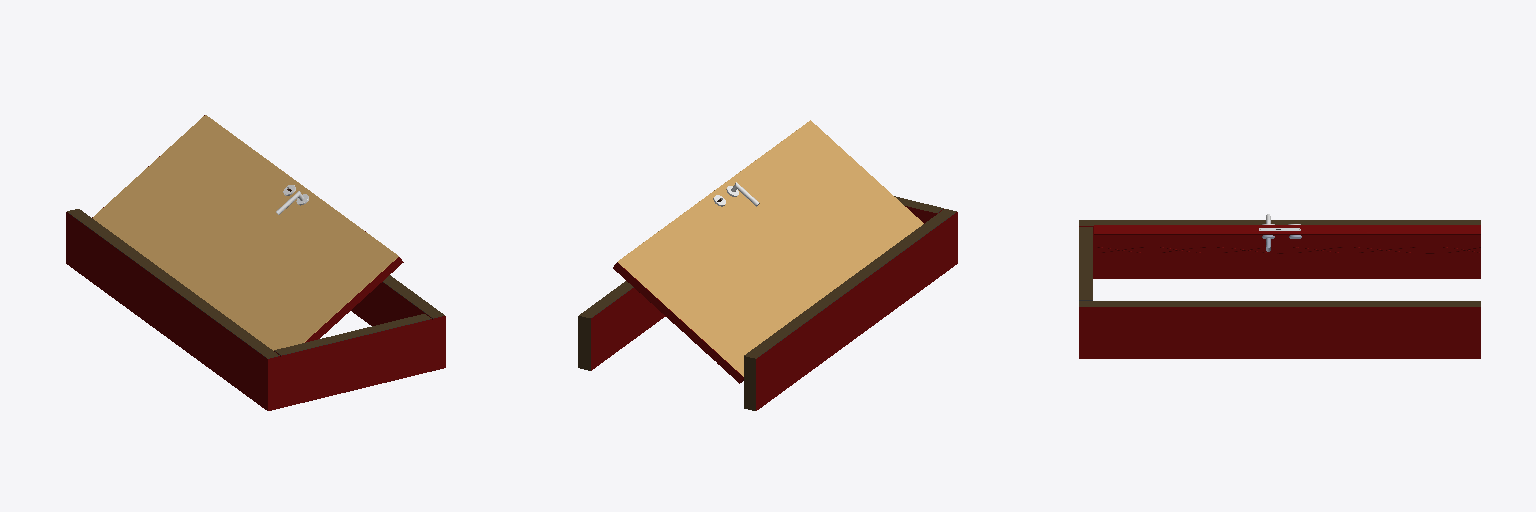
The model's file is vrata1.obj.
The picture shows the model from 3 angles: view 1: azimuth 30°, elevation 25°; view 2: azimuth 150°, elevation 25°; view 3: azimuth 270°, elevation 25°; orthographic projection.
Visible parts, largest first — view 1: Mtl7, Mtl2, Mtl1, Mtl5; view 2: Mtl7, Mtl2, Mtl1, Mtl5; view 3: Mtl2, Mtl5, Mtl1.
Boxes of the visible parts, x1=… form: Mtl7: x1=93, y1=115, x2=398, y2=350; Mtl2: x1=66, y1=212, x2=445, y2=410; Mtl1: x1=67, y1=209, x2=444, y2=358; Mtl5: x1=92, y1=115, x2=403, y2=342; Mtl7: x1=618, y1=120, x2=923, y2=376; Mtl2: x1=591, y1=206, x2=957, y2=410; Mtl1: x1=578, y1=196, x2=956, y2=410; Mtl5: x1=613, y1=262, x2=743, y2=383; Mtl2: x1=1079, y1=226, x2=1480, y2=358; Mtl5: x1=1094, y1=225, x2=1480, y2=256; Mtl1: x1=1079, y1=220, x2=1480, y2=306.
Bounding box in the file's own units: 1.06 × 0.6856 × 2.08.